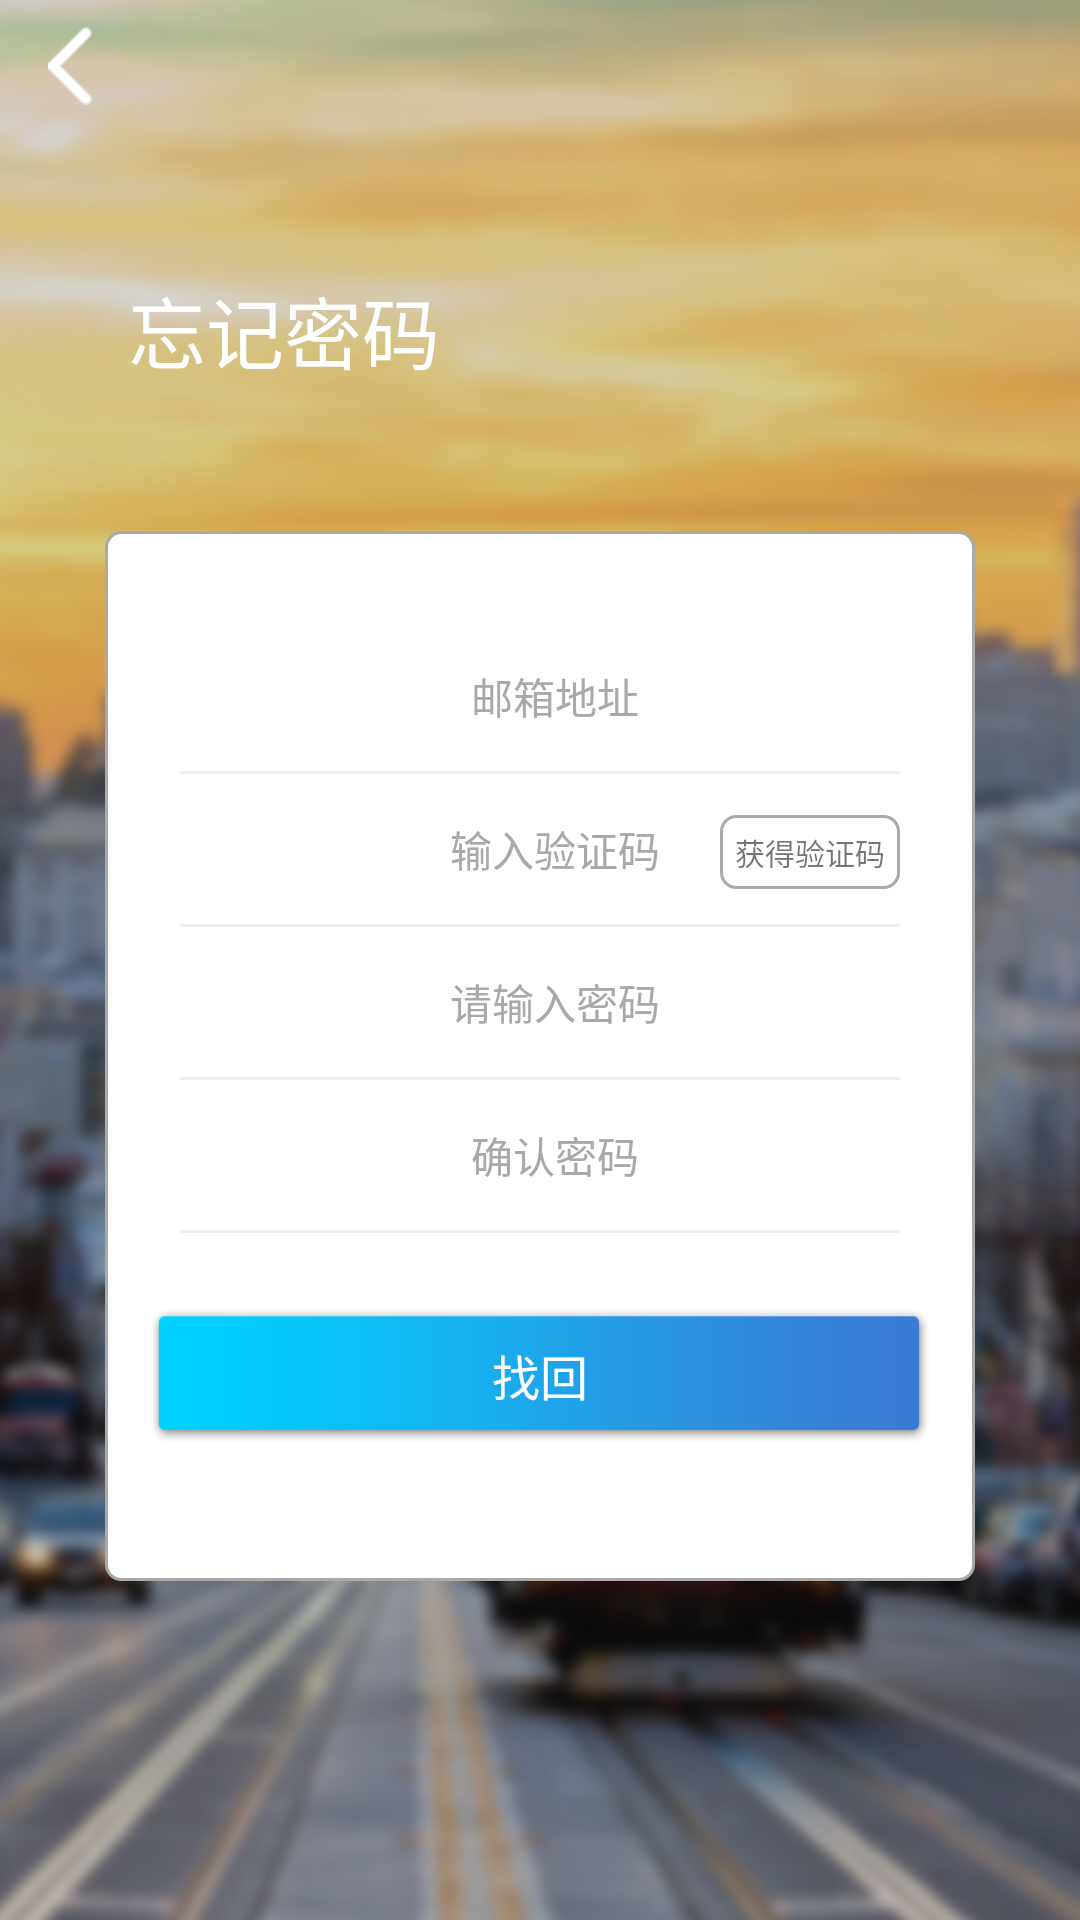

Screen size 1080×1920. Icon name, then its box in pixels as region(x1, y1, x2, y2):
back: region(48, 27, 92, 105)
